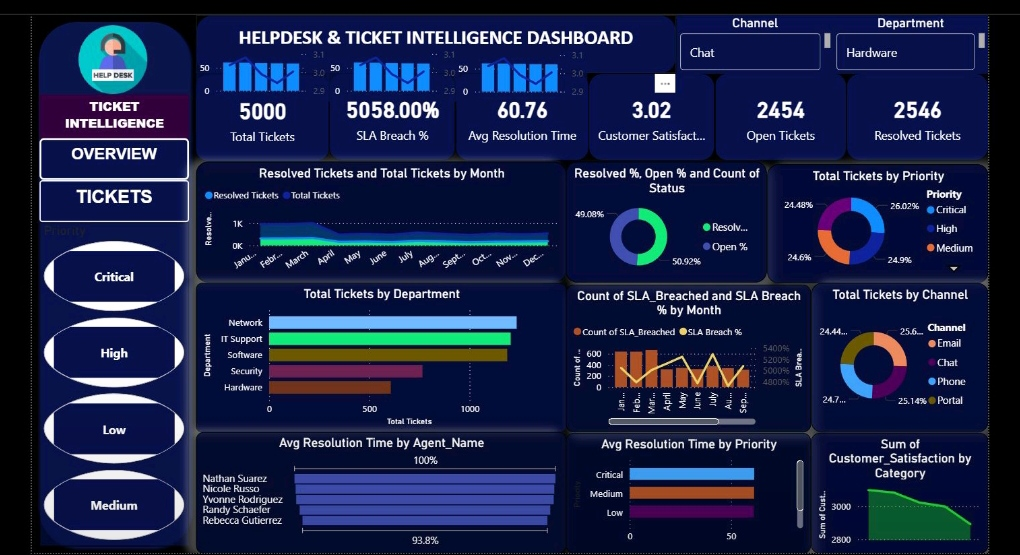

The page's visual inventory and layout, read from the dashboard file:
{"tool":"powerbi","page":{"name":"Page 1","canvas":[1280,720],"ordinal":0},"visuals":[{"type":"card","fields":{"Values":["helpdesk_tickets.Total Tickets"]},"box":[218.9,78.4,179.1,116.9],"z":0},{"type":"card","fields":{"Values":["helpdesk_tickets.SLA Breach %"]},"box":[397.9,78.2,168.8,116.6],"z":1000},{"type":"card","fields":{"Values":["helpdesk_tickets.Open Tickets"]},"box":[913.9,78.2,175.6,116.6],"z":2000},{"type":"card","fields":{"Values":["helpdesk_tickets.Avg Resolution Time"]},"box":[566.7,78.2,178.4,116.6],"z":3000},{"type":"card","fields":{"Values":["helpdesk_tickets.Resolved Tickets"]},"box":[1089.5,78.2,190.7,116.6],"z":4000},{"type":"card","fields":{"Values":["helpdesk_tickets.Customer Satisfaction"]},"box":[745.1,78.2,168.8,116.6],"z":5000},{"type":"shape","box":[0,0,219.6,720.4],"z":6000},{"type":"image","box":[19.2,13.7,178.4,91.9],"z":7000},{"type":"textbox","box":[9.6,105.7,200.3,59],"z":8000},{"type":"advancedSlicerVisual","fields":{"Values":["helpdesk_tickets.Priority"]},"box":[9.6,277.2,200.3,433.6],"z":9000},{"type":"advancedSlicerVisual","fields":{"Values":["helpdesk_tickets.Channel"]},"box":[861.8,0,211.3,78.2],"z":10000},{"type":"advancedSlicerVisual","fields":{"Values":["helpdesk_agents.Department"]},"box":[1071.7,0,208.6,78.2],"z":11000},{"type":"textbox","box":[219.6,0,642.2,78.2],"z":12000},{"type":"textbox","box":[9.6,164.7,200.3,56.3],"z":13000},{"type":"textbox","box":[9.6,220.9,200.3,56.3],"z":14000},{"type":"stackedAreaChart","fields":{"Category":["helpdesk_tickets.Created_Date.Variation.Date Hierarchy.Month"],"Y":["helpdesk_tickets.Resolved Tickets","helpdesk_tickets.Total Tickets"]},"box":[219.6,196.2,495.4,161.9],"z":15000},{"type":"donutChart","fields":{"Y":["helpdesk_tickets.Resolved %","helpdesk_tickets.Open %"]},"box":[714.9,196.2,269,161.9],"z":16000},{"type":"donutChart","fields":{"Y":["helpdesk_tickets.Total Tickets"],"Category":["helpdesk_tickets.Priority"]},"box":[983.9,199,296.4,159.2],"z":17000},{"type":"clusteredBarChart","fields":{"Y":["helpdesk_tickets.Total Tickets"],"Category":["helpdesk_agents.Department"]},"box":[219.6,358.1,495.4,200.3],"z":18000},{"type":"lineClusteredColumnComboChart","fields":{"Category":["helpdesk_tickets.Created_Date.Variation.Date Hierarchy.Month"],"Y":["CountNonNull(helpdesk_tickets.SLA_Breached)"],"Y2":["helpdesk_tickets.SLA Breach %"]},"box":[714.9,360.9,328,197.6],"z":19000},{"type":"donutChart","fields":{"Y":["helpdesk_tickets.Total Tickets"],"Category":["helpdesk_tickets.Channel"]},"box":[1042.9,358.1,237.4,200.3],"z":20000},{"type":"barChart","fields":{"Category":["helpdesk_tickets.Priority"],"Y":["helpdesk_tickets.Avg Resolution Time"]},"box":[714.9,558.5,328,161.9],"z":21000},{"type":"lineChart","fields":{"Y":["Sum(helpdesk_tickets.Customer_Satisfaction)"],"Category":["helpdesk_tickets.Category"]},"box":[1042.9,558.5,237.4,161.9],"z":22000},{"type":"funnel","fields":{"Category":["helpdesk_agents.Agent_Name"],"Y":["helpdesk_tickets.Avg Resolution Time"]},"box":[220,558,495,162],"z":23000},{"type":"lineClusteredColumnComboChart","fields":{"Category":["helpdesk_agents.Department"],"Y":["helpdesk_tickets.Avg Resolution Time"],"Y2":["helpdesk_tickets.Customer Satisfaction"]},"box":[220.2,38.6,177.9,77.1],"z":24000},{"type":"lineClusteredColumnComboChart","fields":{"Category":["helpdesk_agents.Department"],"Y":["helpdesk_tickets.Avg Resolution Time"],"Y2":["helpdesk_tickets.Customer Satisfaction"]},"box":[394.3,38.6,177.9,77.1],"z":25000},{"type":"lineClusteredColumnComboChart","fields":{"Category":["helpdesk_agents.Department"],"Y":["helpdesk_tickets.Avg Resolution Time"],"Y2":["helpdesk_tickets.Customer Satisfaction"]},"box":[566,39.8,177.9,77.1],"z":26000}]}

Visuals, with their boxes on the page's 1280x720 design canvas (x1, y1, x2, y2). These are canvas units, not pixel positions in the 1020x555 screenshot, which may show the page scaled, cropped or inside an application window:
card - helpdesk_tickets.Total Tickets: x1=219 y1=78 x2=398 y2=195
card - helpdesk_tickets.SLA Breach %: x1=398 y1=78 x2=567 y2=195
card - helpdesk_tickets.Open Tickets: x1=914 y1=78 x2=1090 y2=195
card - helpdesk_tickets.Avg Resolution Time: x1=567 y1=78 x2=745 y2=195
card - helpdesk_tickets.Resolved Tickets: x1=1090 y1=78 x2=1280 y2=195
card - helpdesk_tickets.Customer Satisfaction: x1=745 y1=78 x2=914 y2=195
shape: x1=0 y1=0 x2=220 y2=720
image: x1=19 y1=14 x2=198 y2=106
textbox: x1=10 y1=106 x2=210 y2=165
advancedSlicerVisual - helpdesk_tickets.Priority: x1=10 y1=277 x2=210 y2=711
advancedSlicerVisual - helpdesk_tickets.Channel: x1=862 y1=0 x2=1073 y2=78
advancedSlicerVisual - helpdesk_agents.Department: x1=1072 y1=0 x2=1280 y2=78
textbox: x1=220 y1=0 x2=862 y2=78
textbox: x1=10 y1=165 x2=210 y2=221
textbox: x1=10 y1=221 x2=210 y2=277
stackedAreaChart - helpdesk_tickets.Created_Date.Variation.Date Hierarchy.Month x helpdesk_tickets.Resolved Tickets: x1=220 y1=196 x2=715 y2=358
donutChart - helpdesk_tickets.Resolved % x helpdesk_tickets.Open %: x1=715 y1=196 x2=984 y2=358
donutChart - helpdesk_tickets.Total Tickets x helpdesk_tickets.Priority: x1=984 y1=199 x2=1280 y2=358
clusteredBarChart - helpdesk_tickets.Total Tickets x helpdesk_agents.Department: x1=220 y1=358 x2=715 y2=558
lineClusteredColumnComboChart - helpdesk_tickets.Created_Date.Variation.Date Hierarchy.Month x CountNonNull(helpdesk_tickets.SLA_Breached): x1=715 y1=361 x2=1043 y2=558
donutChart - helpdesk_tickets.Total Tickets x helpdesk_tickets.Channel: x1=1043 y1=358 x2=1280 y2=558
barChart - helpdesk_tickets.Priority x helpdesk_tickets.Avg Resolution Time: x1=715 y1=558 x2=1043 y2=720
lineChart - Sum(helpdesk_tickets.Customer_Satisfaction) x helpdesk_tickets.Category: x1=1043 y1=558 x2=1280 y2=720
funnel - helpdesk_agents.Agent_Name x helpdesk_tickets.Avg Resolution Time: x1=220 y1=558 x2=715 y2=720
lineClusteredColumnComboChart - helpdesk_agents.Department x helpdesk_tickets.Avg Resolution Time: x1=220 y1=39 x2=398 y2=116
lineClusteredColumnComboChart - helpdesk_agents.Department x helpdesk_tickets.Avg Resolution Time: x1=394 y1=39 x2=572 y2=116
lineClusteredColumnComboChart - helpdesk_agents.Department x helpdesk_tickets.Avg Resolution Time: x1=566 y1=40 x2=744 y2=117
